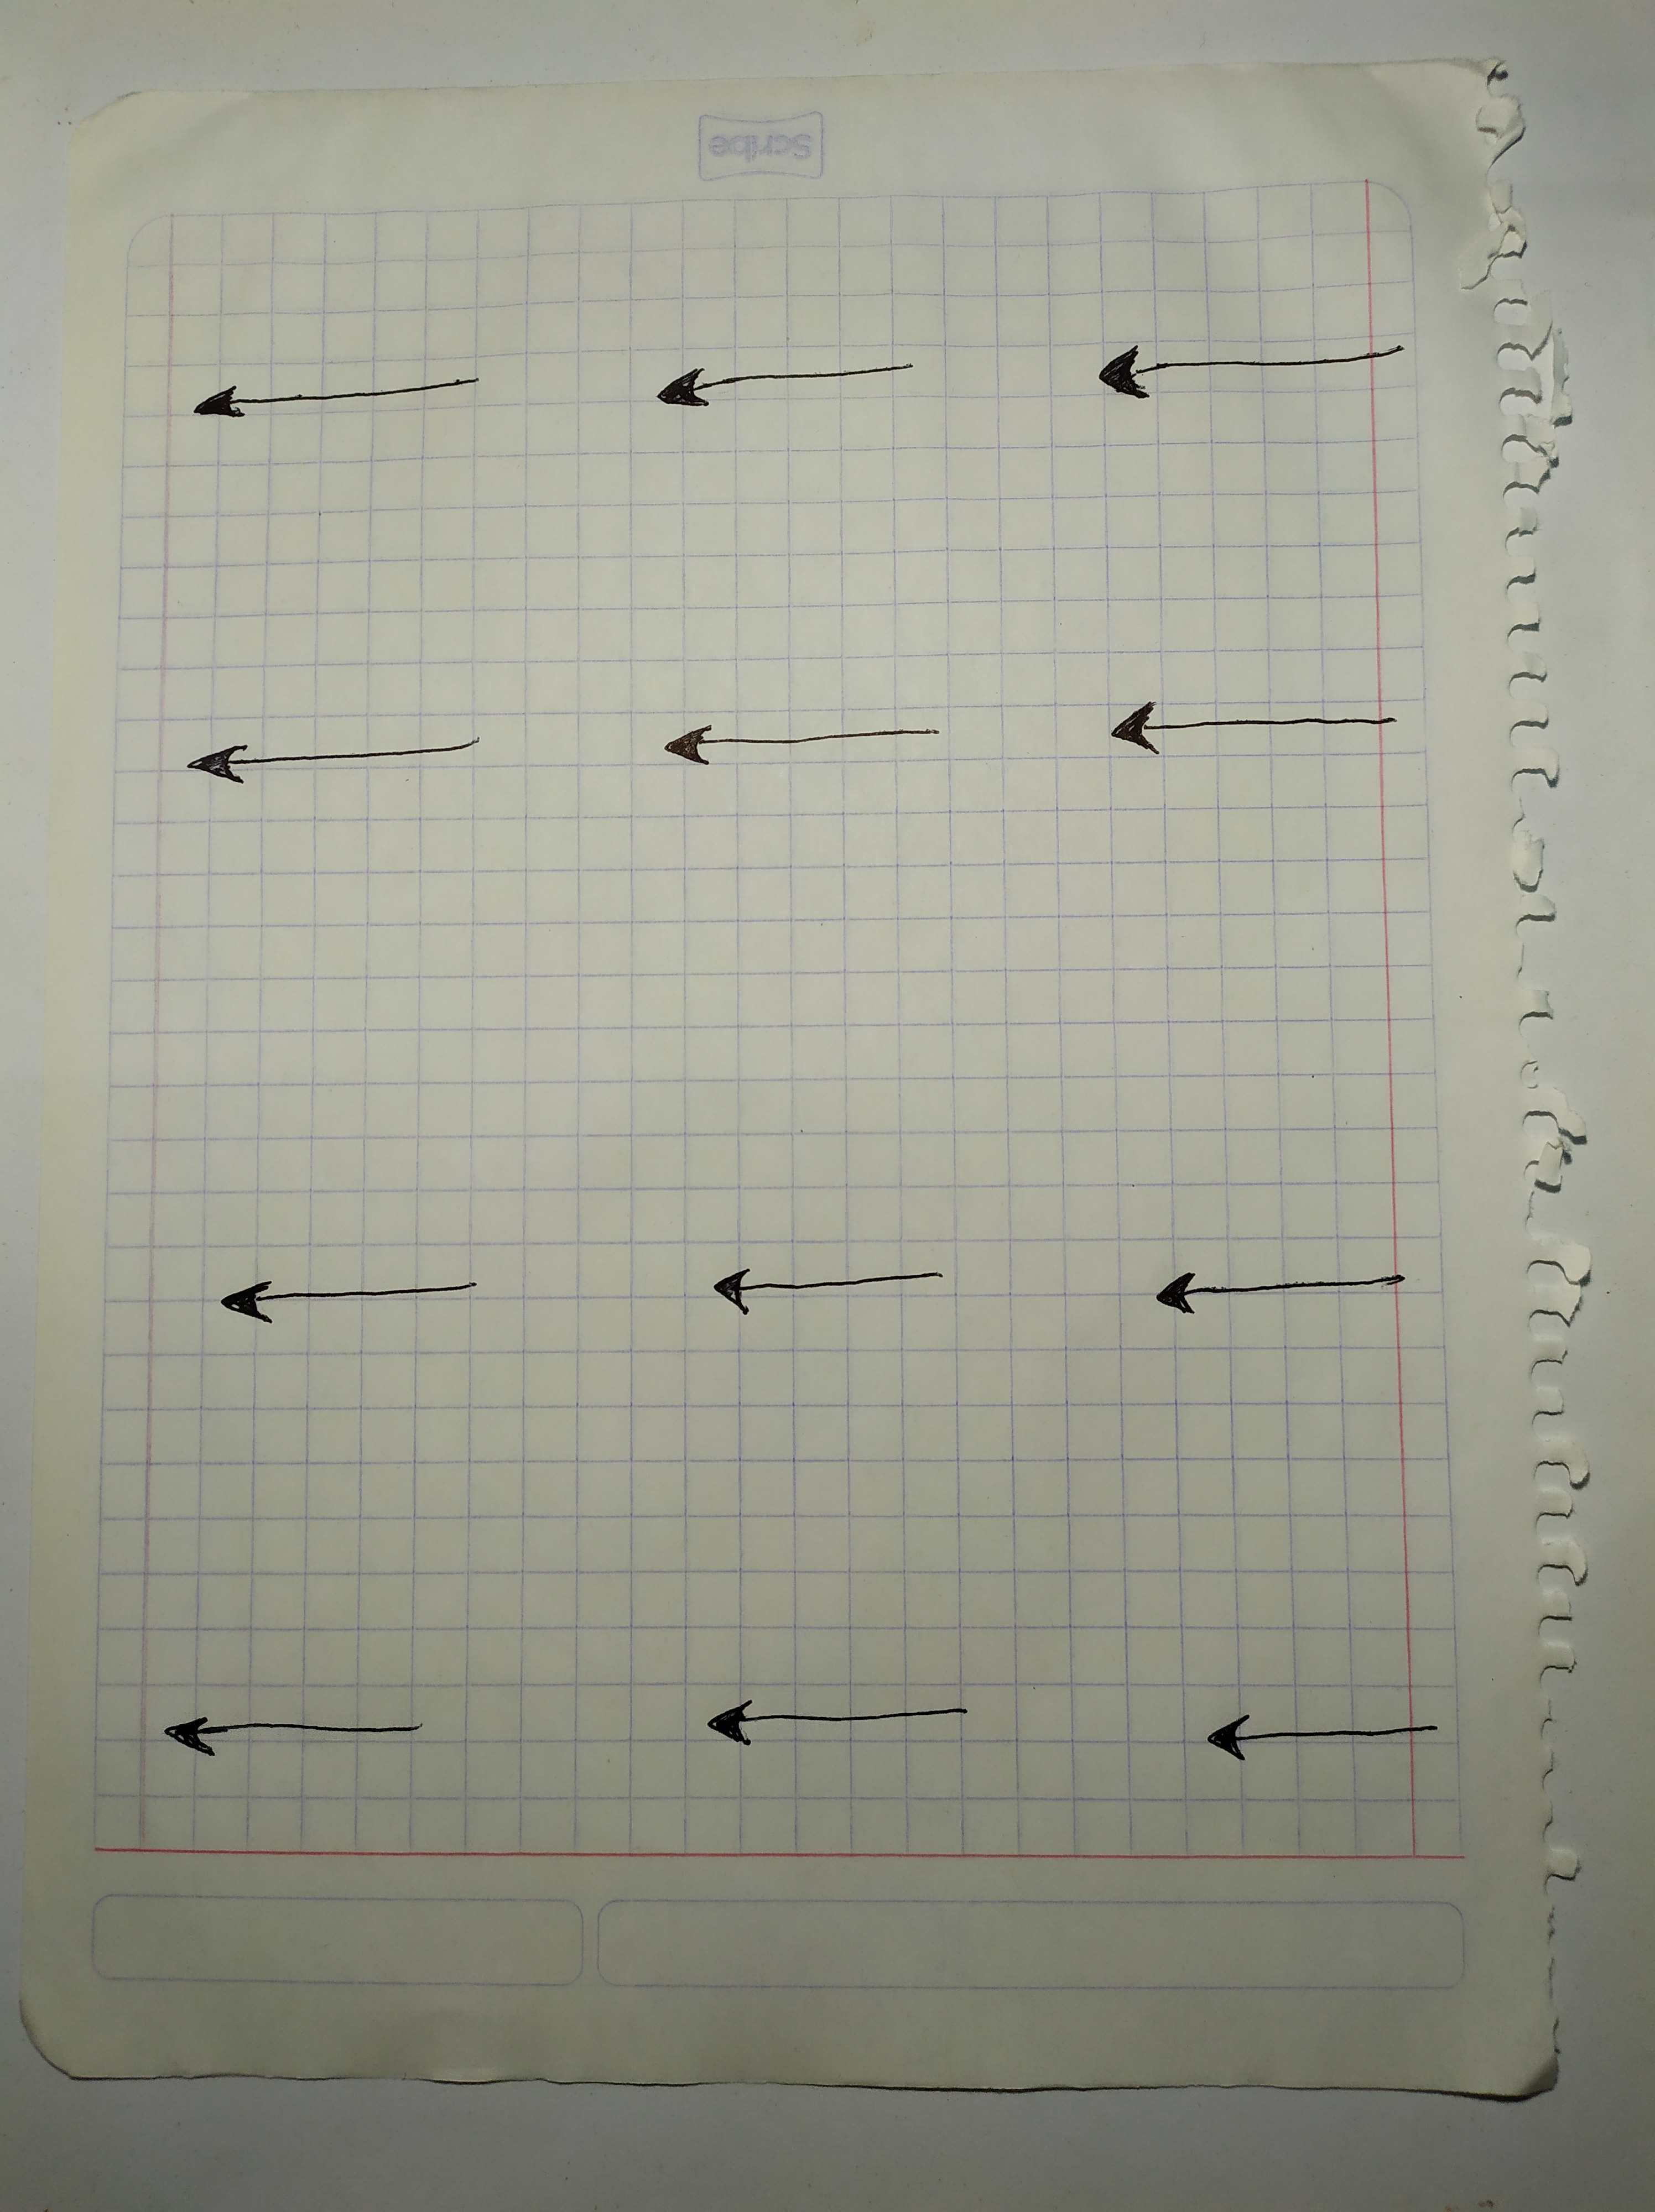arrow_line_left: (659, 1237, 1010, 1338), (1114, 1230, 1441, 1336), (666, 1673, 996, 1776), (1067, 686, 1424, 780), (188, 1249, 515, 1345), (624, 705, 968, 791), (1067, 335, 1424, 417), (144, 719, 516, 798), (626, 346, 953, 433), (136, 1689, 454, 1778), (1184, 1692, 1471, 1781), (172, 367, 516, 434)
